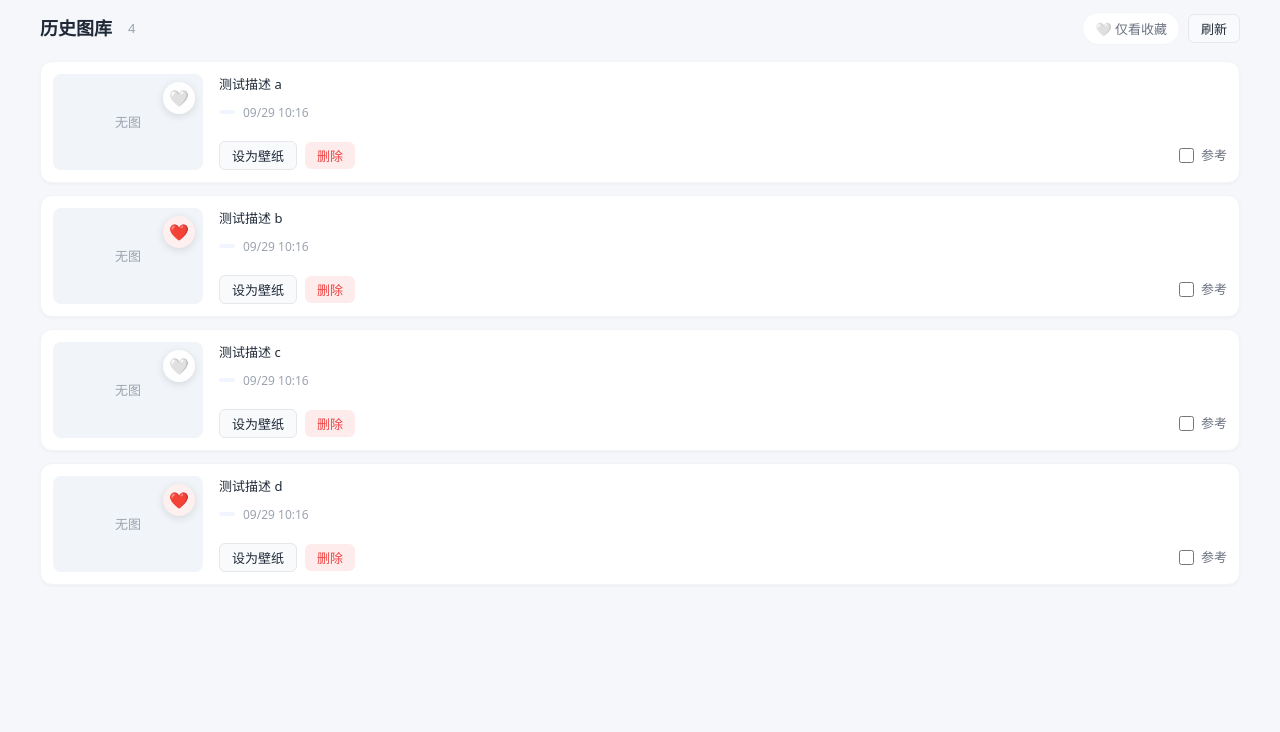
Test: HistoryPanel · 收藏功能（B5 验收） › 再次点击「仅看收藏」取消筛选
This screenshot has width=1280, height=732.
Click the button "🤍 仅看收藏": [1131, 28] box 1082,12 -> 1180,45
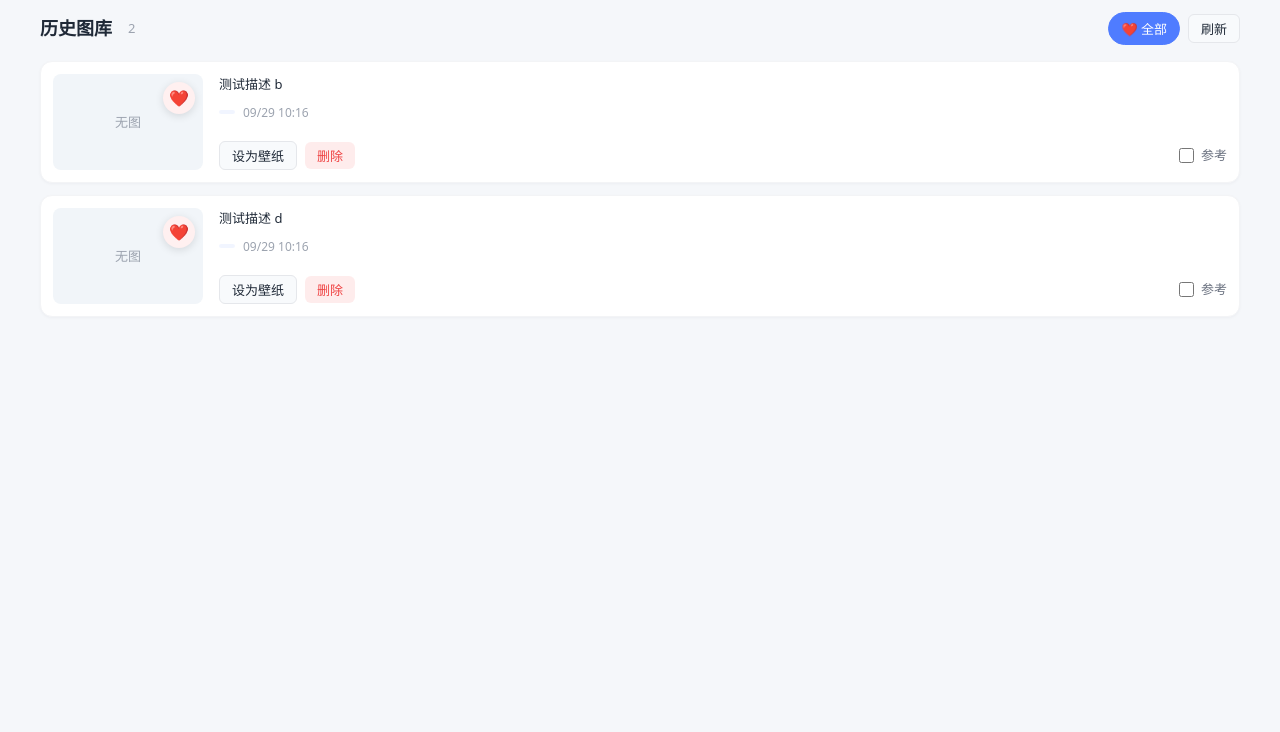
Now the number of list items with class "history-item" is 2, box 40,61 -> 1240,183; 40,195 -> 1240,317
Click the button named "仅看收藏": [1144, 28] box 1108,12 -> 1180,45
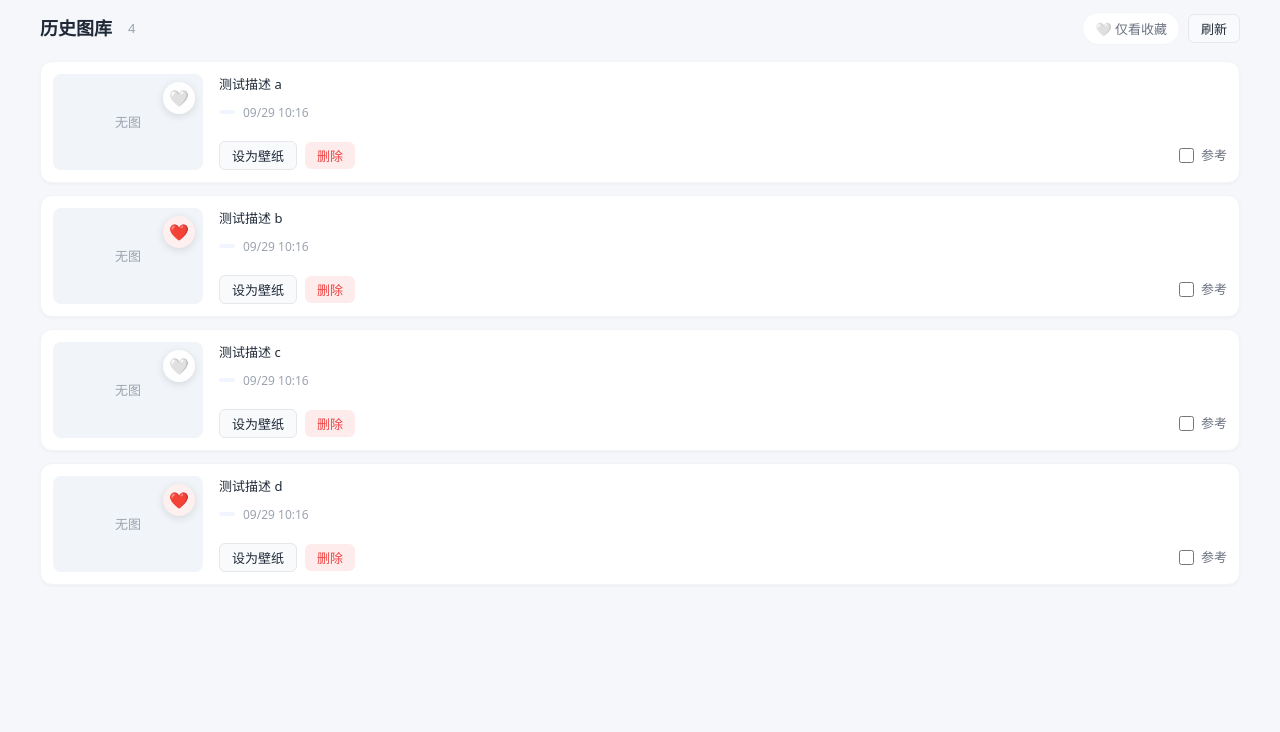
Now the number of list items with class "history-item" is 4, box 40,61 -> 1240,183; 40,195 -> 1240,317; 40,329 -> 1240,451; 40,463 -> 1240,585
